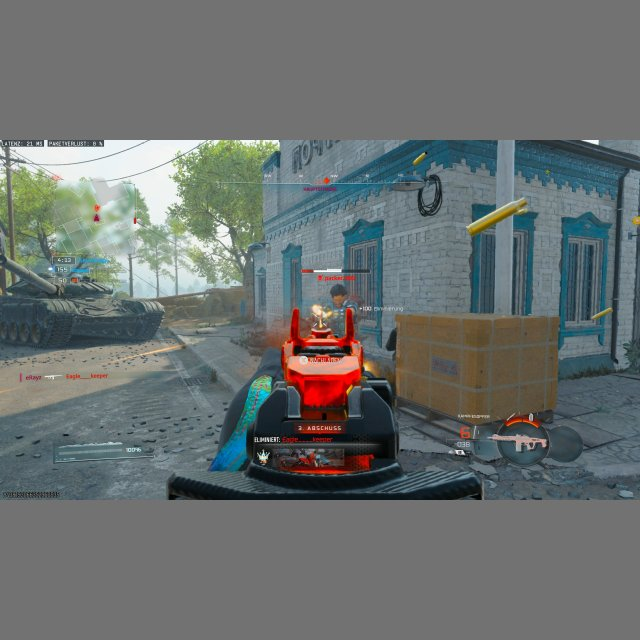head: (330, 283, 347, 304)
player: (315, 282, 361, 338)
